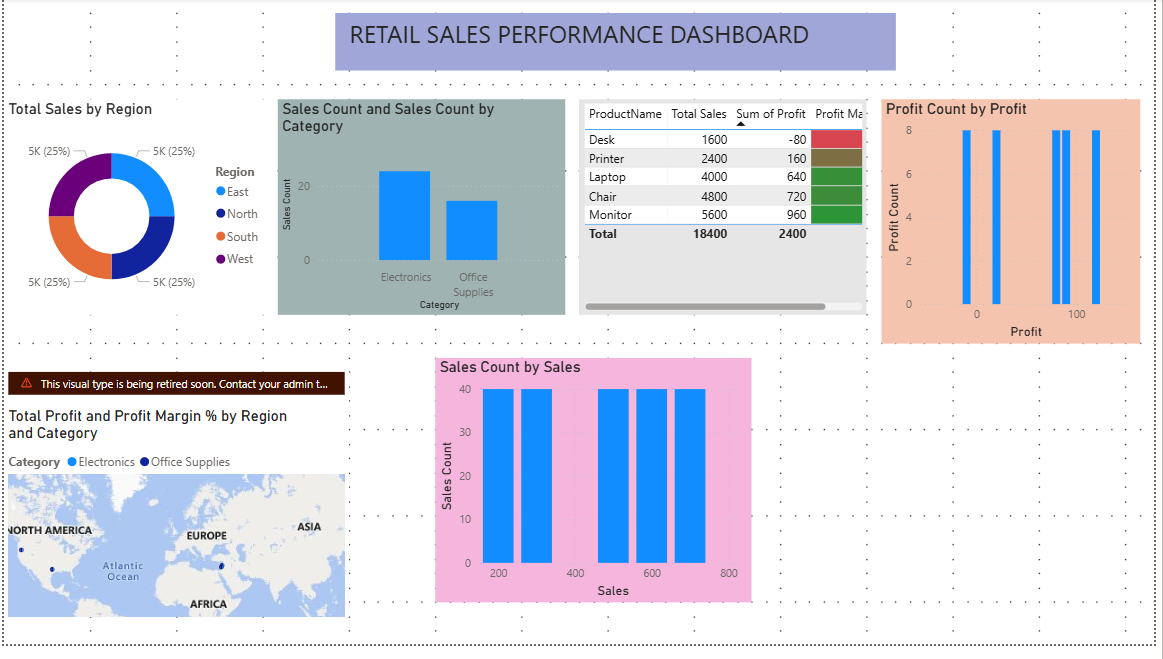

The dashboard page shown, as its layout file describes it:
{"tool":"powerbi","page":{"name":"Page 1","canvas":[1280,720],"ordinal":0},"visuals":[{"type":"clusteredColumnChart","fields":{"Category":["Sales (2).Sales"],"Y":["Sales (2).Sales Count"]},"box":[480,400,352,272],"z":0},{"type":"clusteredColumnChart","fields":{"Category":["Sales.Profit"],"Y":["Customers.Profit Count"]},"box":[976,112,288,272],"z":1000},{"type":"clusteredColumnChart","fields":{"Category":["Products.Category"],"Y":["Sales (2).Sales Count","Sales (2).Sales Count"]},"box":[304,112,320,240],"z":2000},{"type":"tableEx","fields":{"Values":["Products.ProductName","Customers (2).Total Sales","Sum(Sales.Profit)","Customers (2).Profit Margin %"]},"box":[640,112,320,240],"z":4000},{"type":"textbox","box":[368,16,624,64],"z":5000},{"type":"map","fields":{"Category":["Sales.Region"],"Series":["Products.Category"]},"box":[0,416,384,272],"z":6000},{"type":"donutChart","fields":{"Category":["Sales.Region"],"Y":["Customers (2).Total Sales"]},"box":[0,112,304,240],"z":7000}]}

Visuals, with their boxes in screenshot pixels (x1, y1, x2, y2), scaled from the page's 1280x720 canvas onto the 1163x659 screenshot:
clusteredColumnChart - Sales (2).Sales x Sales (2).Sales Count: (x1=436, y1=366, x2=756, y2=615)
clusteredColumnChart - Sales.Profit x Customers.Profit Count: (x1=887, y1=103, x2=1148, y2=351)
clusteredColumnChart - Products.Category x Sales (2).Sales Count: (x1=276, y1=103, x2=567, y2=322)
tableEx - Products.ProductName x Customers (2).Total Sales: (x1=582, y1=103, x2=872, y2=322)
textbox: (x1=334, y1=15, x2=901, y2=73)
map - Sales.Region x Products.Category: (x1=0, y1=381, x2=349, y2=630)
donutChart - Sales.Region x Customers (2).Total Sales: (x1=0, y1=103, x2=276, y2=322)
